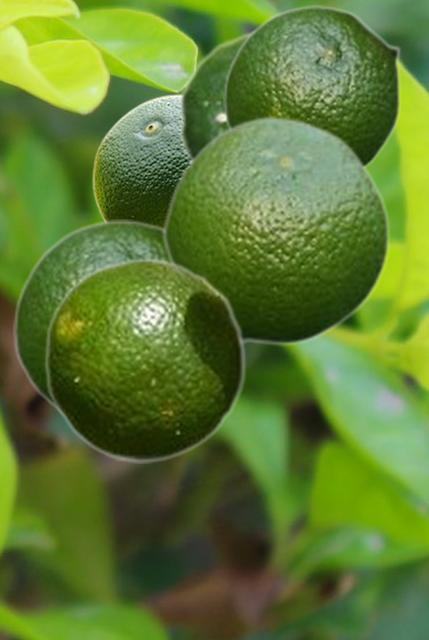calamansi: (161, 114, 390, 345), (43, 257, 246, 462), (13, 219, 166, 420), (223, 5, 401, 169), (92, 94, 187, 224), (178, 27, 253, 165)
